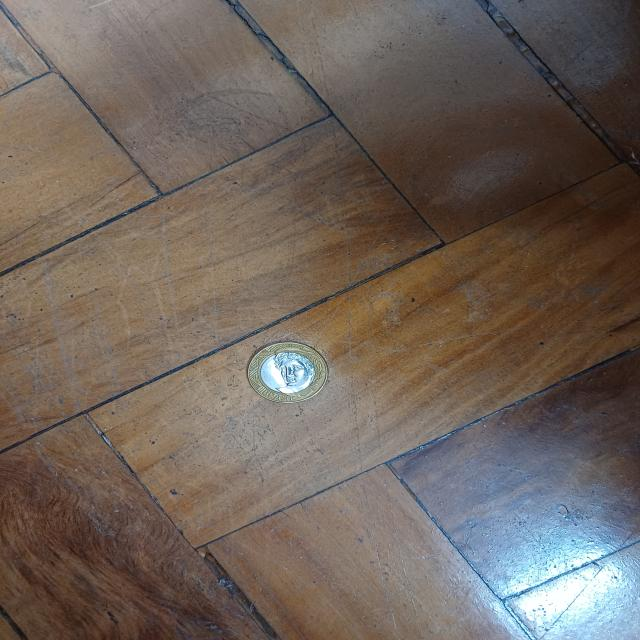1 real: (247, 339, 332, 404)
